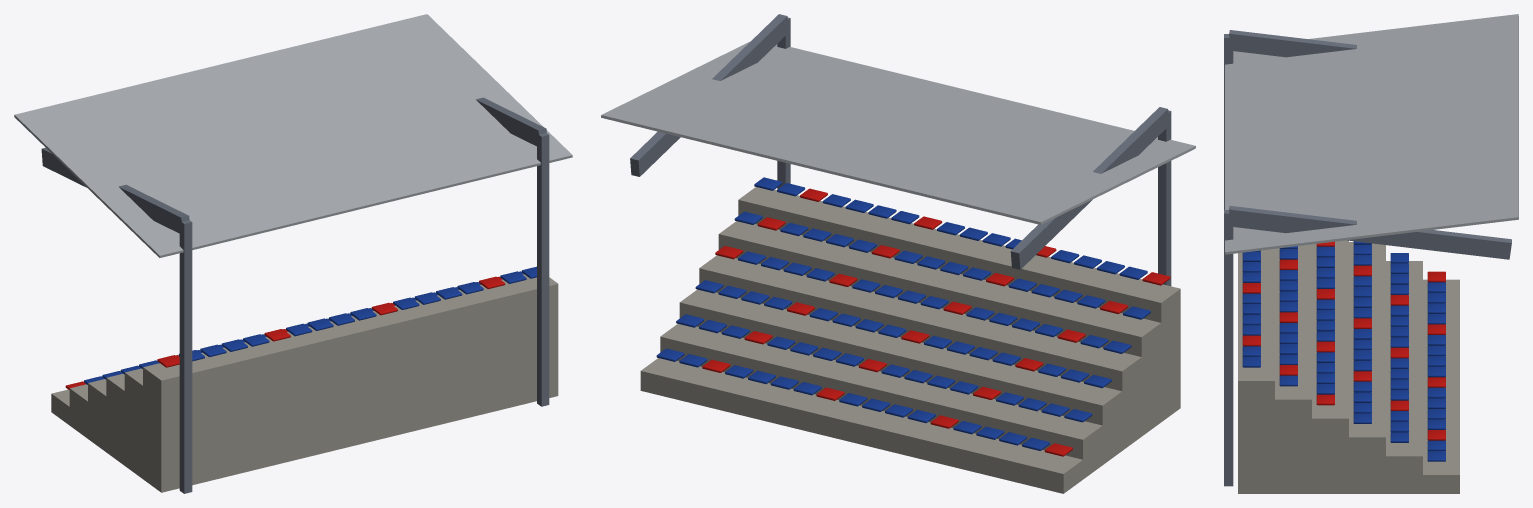
Rendered from sport.pitch.stand.glb.
The picture shows the model from 3 angles, left to right: view 1: azimuth 30°, elevation 25°; view 2: azimuth 150°, elevation 25°; view 3: azimuth 270°, elevation 25°; orthographic projection. The views are drawn at different scales.
Parts seen in each view (by area): view 1: main__steel_galvanised, main__concrete, main__steel_painted, main__plastic_blue, main__plastic_red; view 2: main__concrete, main__steel_galvanised, main__plastic_blue, main__steel_painted, main__plastic_red; view 3: main__steel_galvanised, main__concrete, main__plastic_blue, main__steel_painted, main__plastic_red.
Boxes of the visible parts, box(x1,y1,x2,y2) form: main__steel_galvanised: box(14, 14, 572, 257); main__concrete: box(51, 274, 558, 492); main__steel_painted: box(41, 97, 549, 493); main__plastic_blue: box(84, 266, 536, 384); main__plastic_red: box(65, 276, 505, 389); main__concrete: box(640, 187, 1180, 493); main__steel_galvanised: box(601, 41, 1195, 224); main__plastic_blue: box(656, 177, 1150, 450); main__steel_painted: box(630, 14, 1171, 286); main__plastic_red: box(702, 188, 1170, 456); main__steel_galvanised: box(1225, 14, 1518, 254); main__concrete: box(1238, 240, 1459, 493); main__plastic_blue: box(1242, 241, 1445, 461); main__steel_painted: box(1224, 30, 1511, 486); main__plastic_red: box(1242, 241, 1445, 440).
Bounding box in the file's own units: 10.4 × 6.7 × 6.38.
